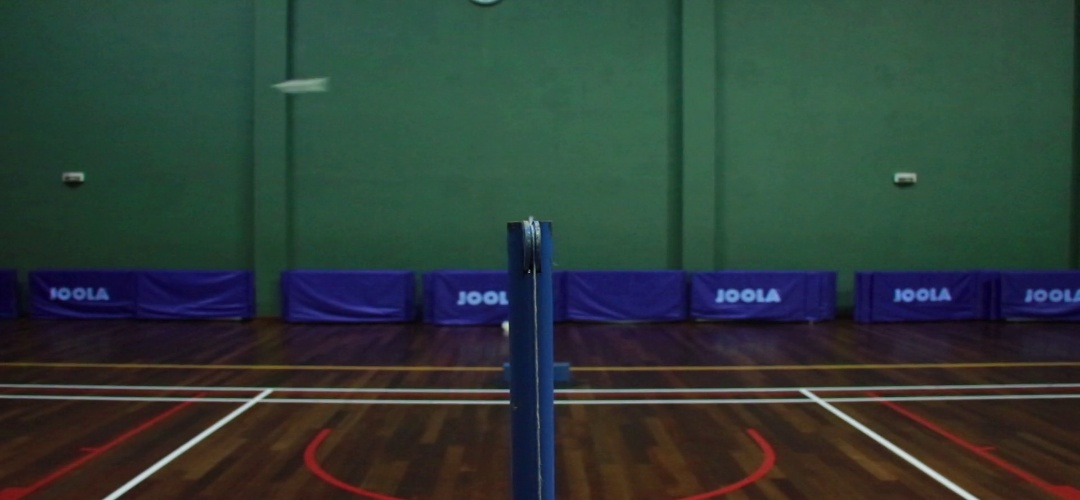c1: (237, 394, 277, 410)
c2: (796, 391, 838, 410)
net_level: (505, 223, 554, 288)
shuttle: (269, 76, 326, 97)
